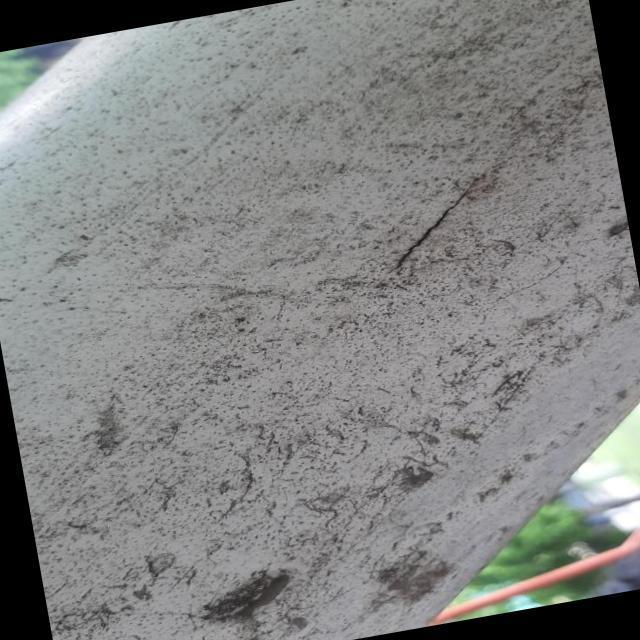defect: (380, 173, 478, 278)
